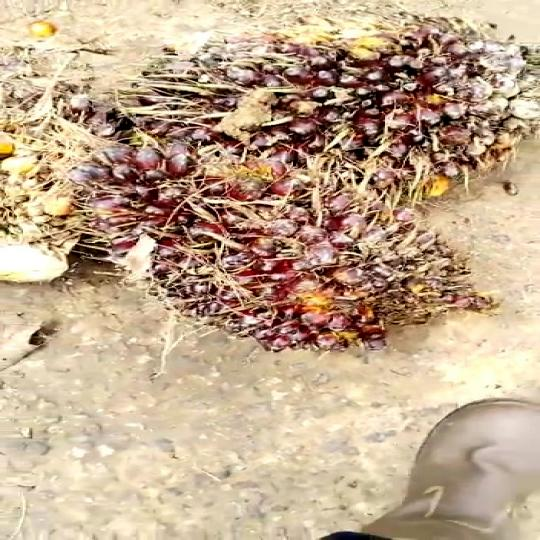kurang masak: (113, 138, 483, 364), (142, 14, 540, 193), (0, 50, 154, 292)
